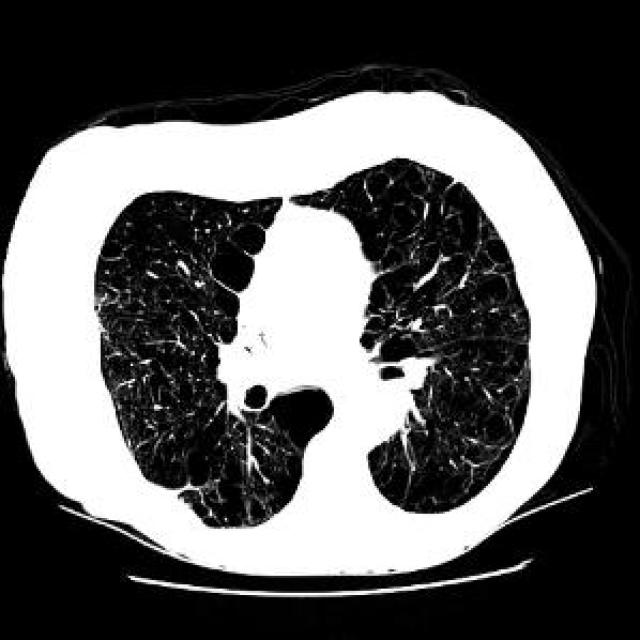Tumor: (368, 386, 407, 432)
